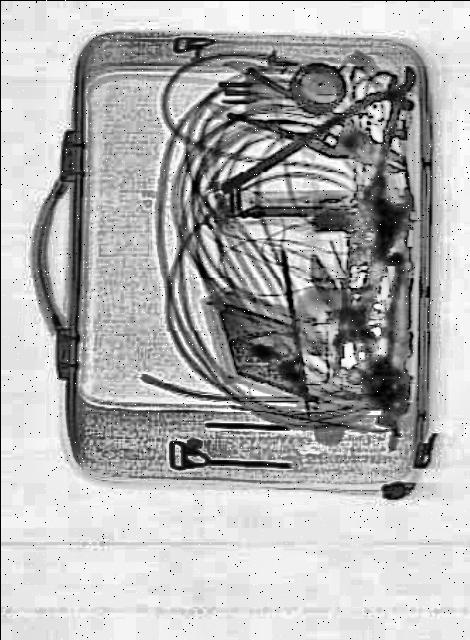Pliers: (222, 62, 410, 198)
Wrench: (324, 172, 416, 370)
